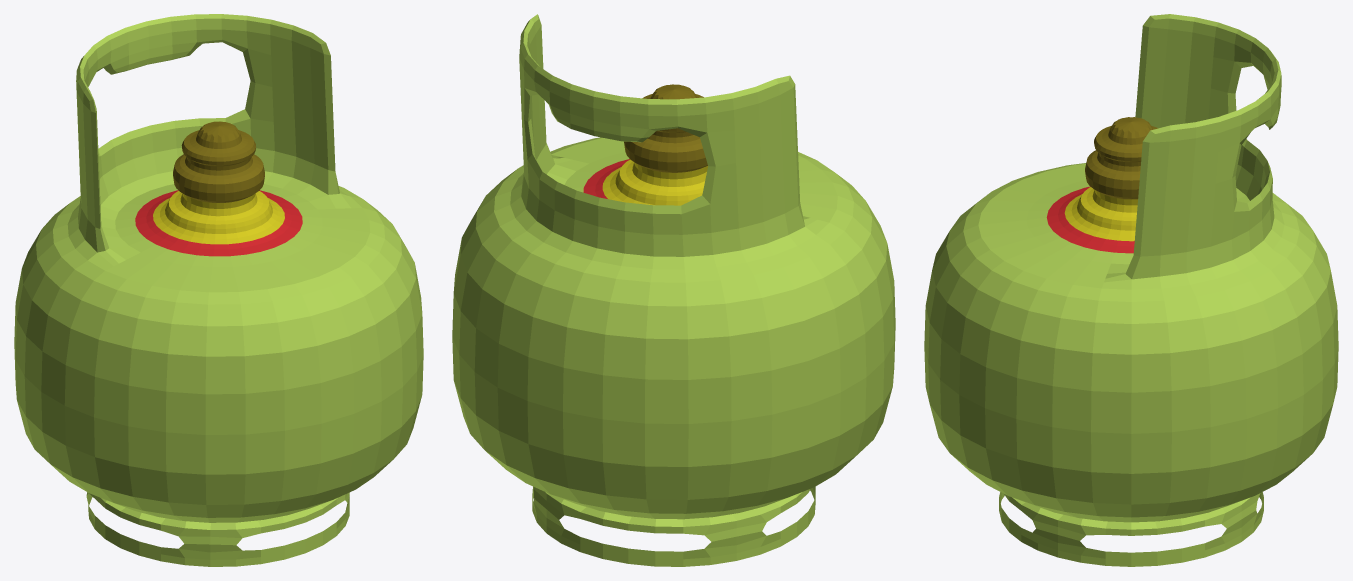
Rendered from Tabung gas.fbx.
3 views of the same model, side by side, from view 1: azimuth 30°, elevation 25°; view 2: azimuth 150°, elevation 25°; view 3: azimuth 270°, elevation 25° (orthographic). The views are drawn at different scales.
Parts seen in each view (by area): view 1: Circle; view 2: Circle; view 3: Circle.
Part boxes in pixels (left/top/right/bottom): Circle: left=14, top=14, right=423, bottom=566; Circle: left=452, top=14, right=895, bottom=566; Circle: left=924, top=14, right=1338, bottom=566.
Bounding box in the file's own units: 452 × 531 × 452.
